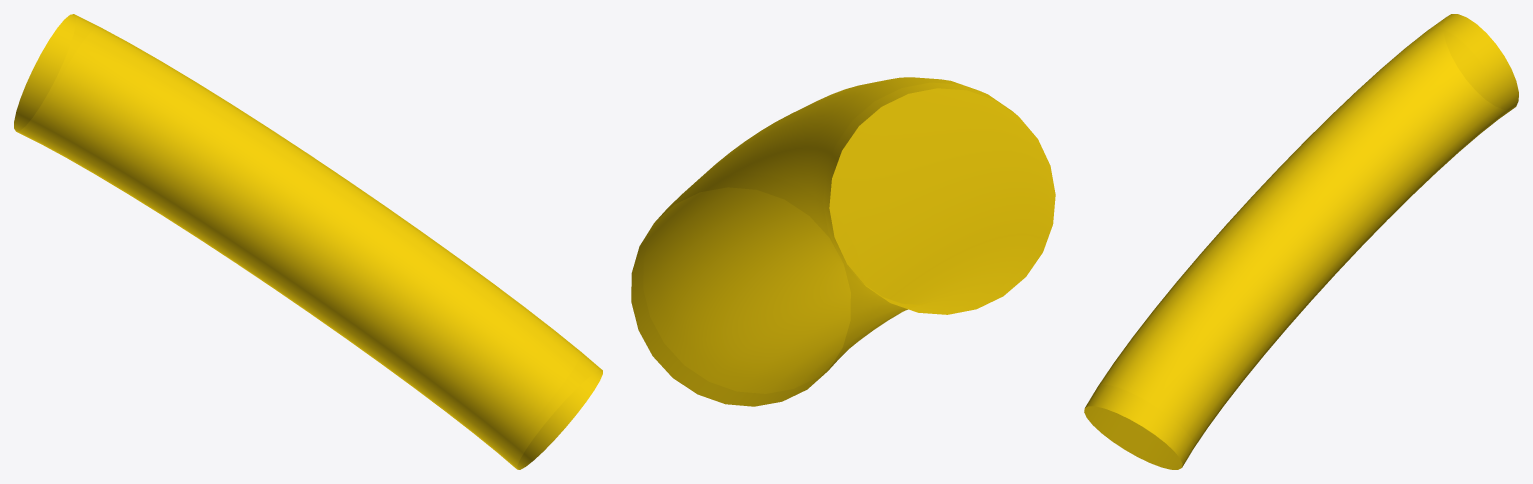
The model's file is Event_420107950_track_57.fbx.
3 views of the same model, side by side, from view 1: azimuth 30°, elevation 25°; view 2: azimuth 150°, elevation 25°; view 3: azimuth 270°, elevation 25° (orthographic). The views are drawn at different scales.
Parts seen in each view (by area): view 1: Model; view 2: Model; view 3: Model.
Boxes of the visible parts, box(x1,y1,x2,y2) form: Model: box(14, 14, 602, 469); Model: box(631, 77, 1055, 406); Model: box(1084, 14, 1518, 469).
Size of the model in its own units: 0.1436 by 0.1277 by 0.1522.
